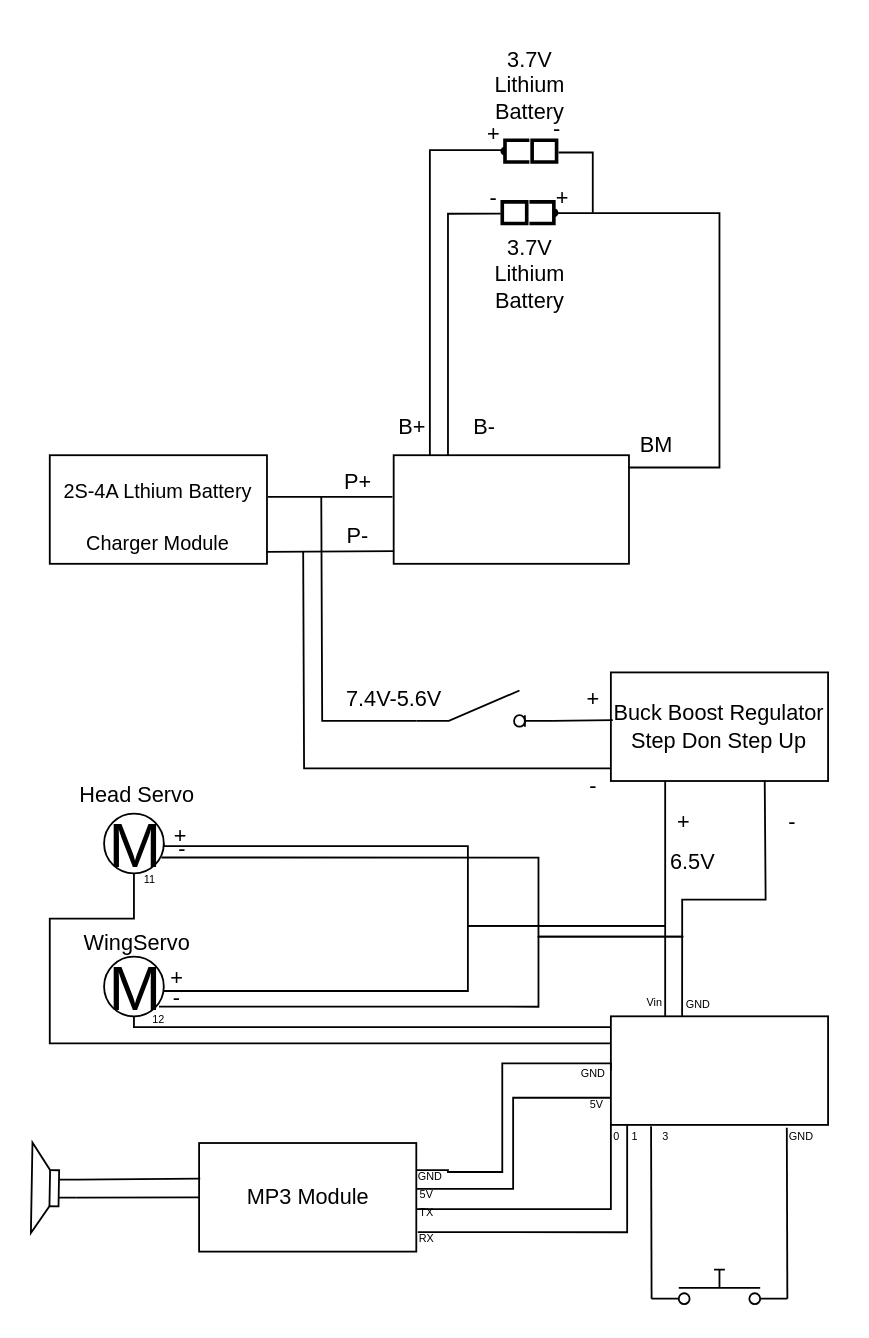
This 869x1338 diagram has some shape labels left out. Each missing label, with the centre of its shape:
"Arduino Uno R4" goes at point 718,1070.
"Lthium Battery Protector" goes at point 510,508.
